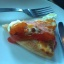pizza: (3, 13, 58, 53)
